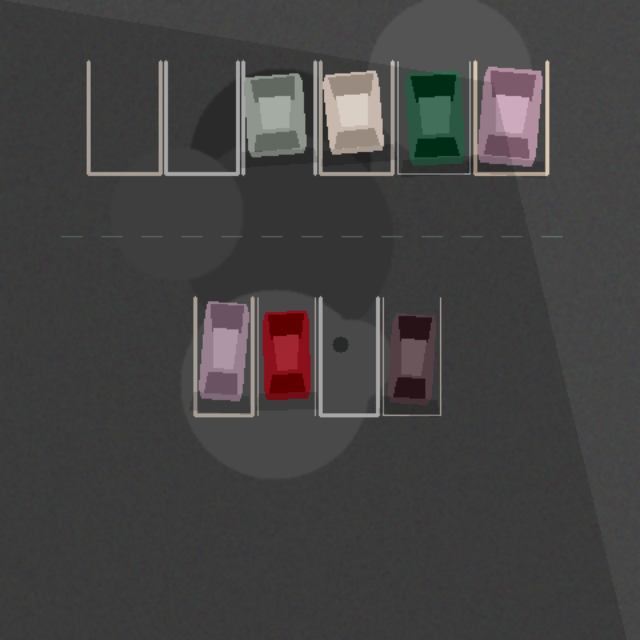space-empty: (88, 61, 160, 173), (165, 61, 237, 173), (320, 297, 377, 415)
space-occupied: (243, 61, 315, 173), (320, 61, 392, 173), (397, 61, 469, 173), (475, 61, 547, 173), (257, 297, 315, 415), (195, 297, 252, 415), (383, 297, 440, 415)
